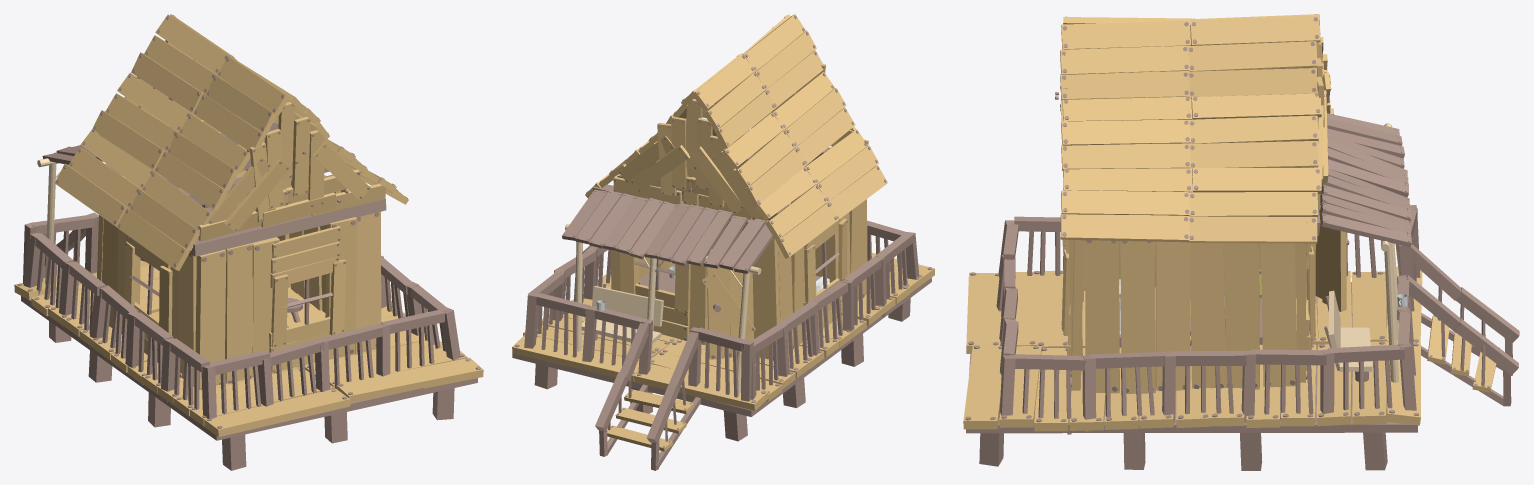
The model's file is cabin.glb.
3 views of the same model, side by side, from view 1: azimuth 30°, elevation 25°; view 2: azimuth 150°, elevation 25°; view 3: azimuth 270°, elevation 25° (orthographic). The views are drawn at different scales.
Visible parts, largest first — view 1: group_751609687, group_2062784127, group_696508989, group_1236057312, group_112769821, group_1068141091, group_1165411202, group_763466415, mesh_921118862, mesh_1961152899, group_1767808571, group_1118934975 (+52 smaller); view 2: group_751609687, group_2062784127, group_696508989, group_93902515, group_705443998, group_334282972, mesh_1961152899, group_1208172976, group_1619776521, group_1891369108, group_1133822439, group_1875847879 (+59 smaller); view 3: group_2095338242, group_1317530826, group_375213922, group_1226838676, group_760099368, group_1623987197, group_2007432431, group_299252884, group_1221669437, mesh_1961152899, group_1744443908, group_1263320047 (+60 smaller).
Boxes of the visible parts, x1,y1,x2,y2 form: group_751609687: [93, 73, 250, 210]; group_2062784127: [131, 14, 289, 151]; group_696508989: [54, 128, 212, 270]; group_1236057312: [195, 249, 226, 389]; group_112769821: [225, 243, 253, 383]; group_1068141091: [336, 357, 483, 402]; group_1165411202: [204, 388, 350, 437]; group_763466415: [355, 211, 381, 354]; mesh_921118862: [189, 198, 386, 256]; mesh_1961152899: [21, 296, 477, 440]; group_1767808571: [201, 350, 270, 418]; group_1118934975: [376, 309, 444, 376]; group_751609687: [721, 72, 855, 206]; group_2062784127: [692, 14, 823, 148]; group_696508989: [755, 129, 887, 258]; group_93902515: [618, 99, 760, 220]; group_705443998: [688, 327, 753, 401]; group_334282972: [752, 238, 780, 359]; mesh_1961152899: [512, 278, 931, 416]; group_1208172976: [524, 292, 590, 357]; group_1619776521: [581, 284, 663, 343]; group_1891369108: [634, 364, 768, 410]; group_1133822439: [512, 335, 639, 381]; group_1875847879: [776, 301, 818, 376]; group_2095338242: [1060, 16, 1320, 100]; group_1317530826: [1060, 168, 1321, 243]; group_375213922: [1061, 92, 1321, 170]; group_1226838676: [1085, 240, 1119, 393]; group_760099368: [1120, 241, 1155, 393]; group_1623987197: [1155, 241, 1190, 391]; group_2007432431: [1190, 243, 1225, 388]; group_299252884: [1260, 243, 1296, 387]; group_1221669437: [1224, 243, 1259, 389]; mesh_1961152899: [966, 282, 1417, 433]; group_1744443908: [1320, 344, 1404, 413]; group_1263320047: [1241, 349, 1326, 422].
Size of the model in its own units: 200 by 239 by 314.
